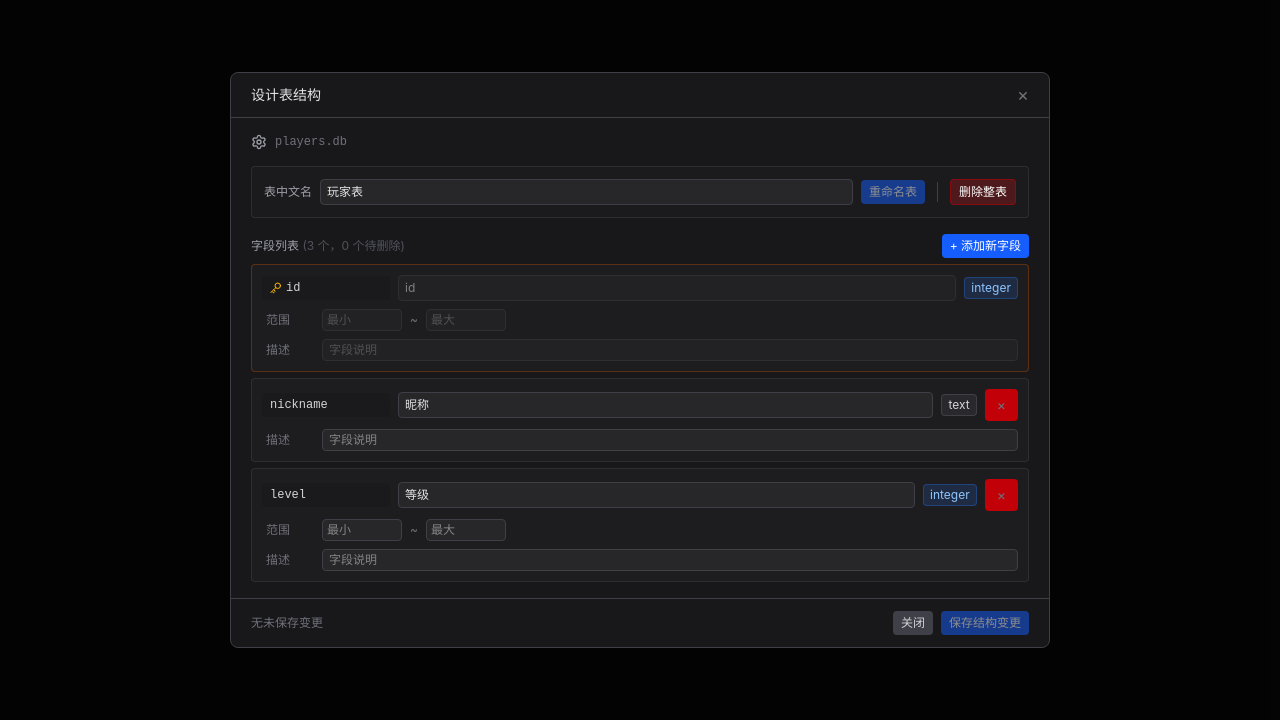
Test case: TableDesignModal - 字段操作 › 点击字段"×"按钮标记为待删除
# 删除 nickname 字段
Click the button titled "删除字段" next to "text". click: (1001, 405)
box: [985, 389, 1018, 421]
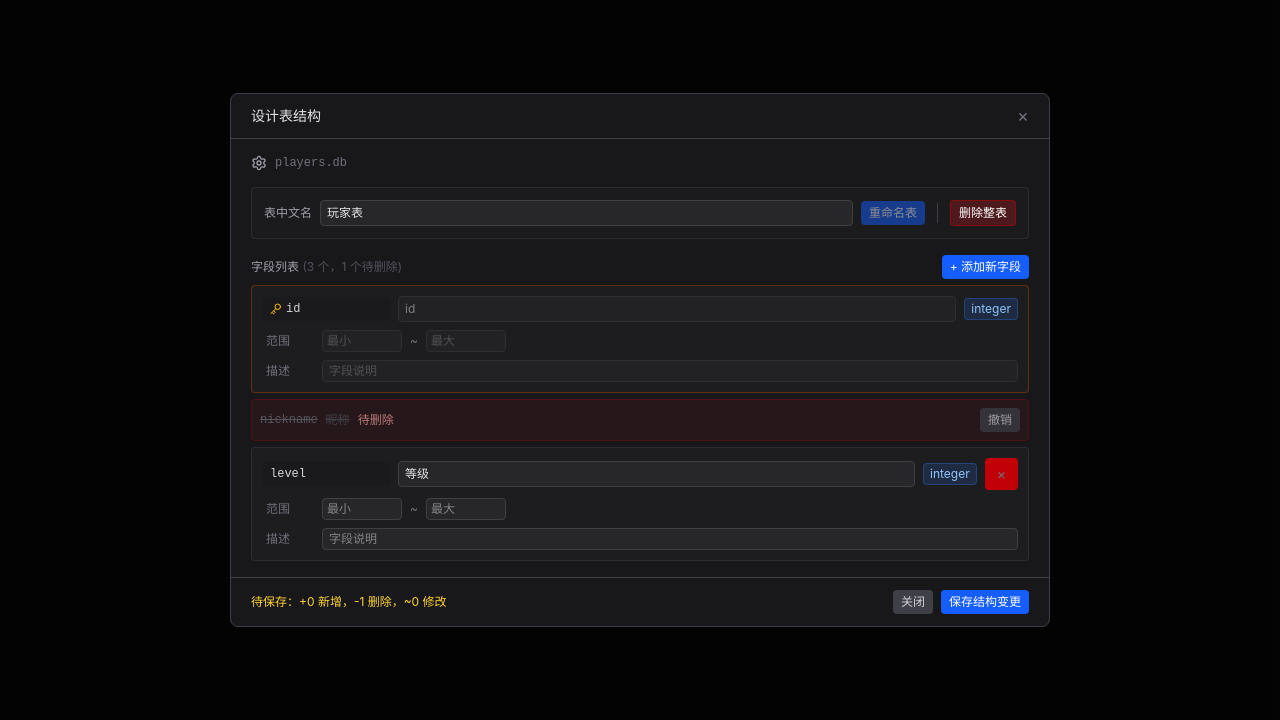
Expected: the text "待删除" is shown, [358, 412, 394, 428]
Expected: the button "撤销" is shown, [980, 408, 1020, 432]
